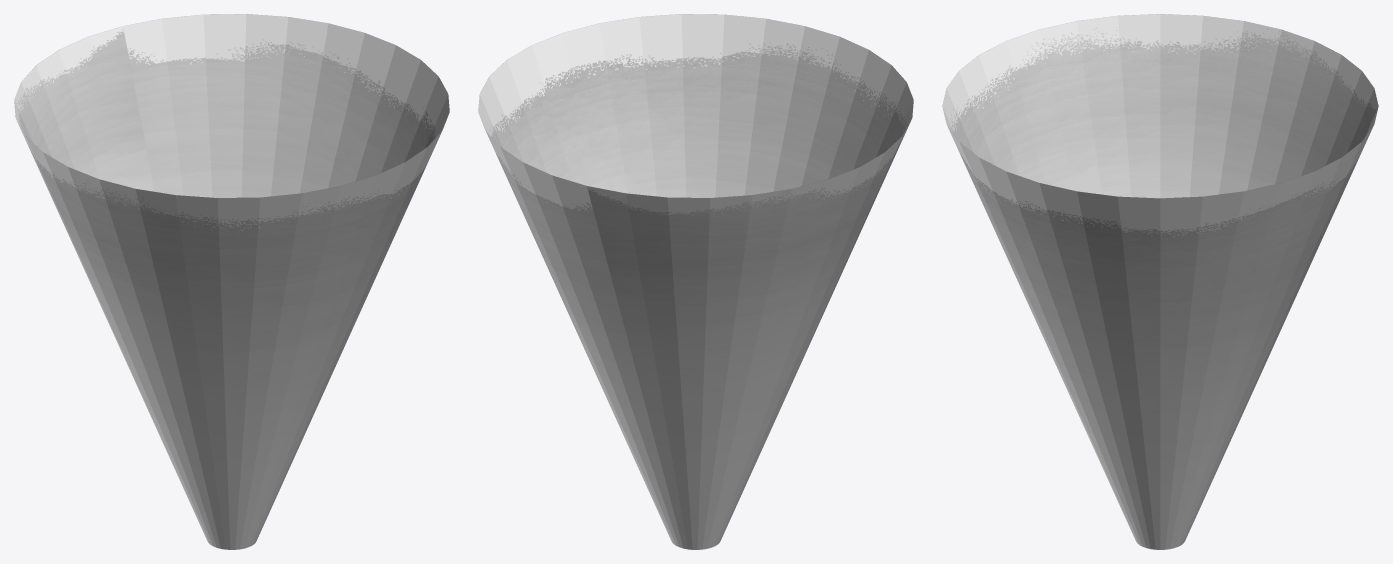
File: radDetectorLightFlare.fbx
The picture shows the model from 3 angles, left to right: view 1: azimuth 30°, elevation 25°; view 2: azimuth 150°, elevation 25°; view 3: azimuth 270°, elevation 25°; orthographic projection.
Parts seen in each view (by area): view 1: Cylinder; view 2: Cylinder; view 3: Cylinder.
Part boxes in pixels (x1,y1,x2,y2): Cylinder: [14, 14, 449, 549]; Cylinder: [478, 14, 913, 549]; Cylinder: [942, 14, 1378, 549].
Bounding box in the file's own units: 92.07 × 101 × 92.07.
